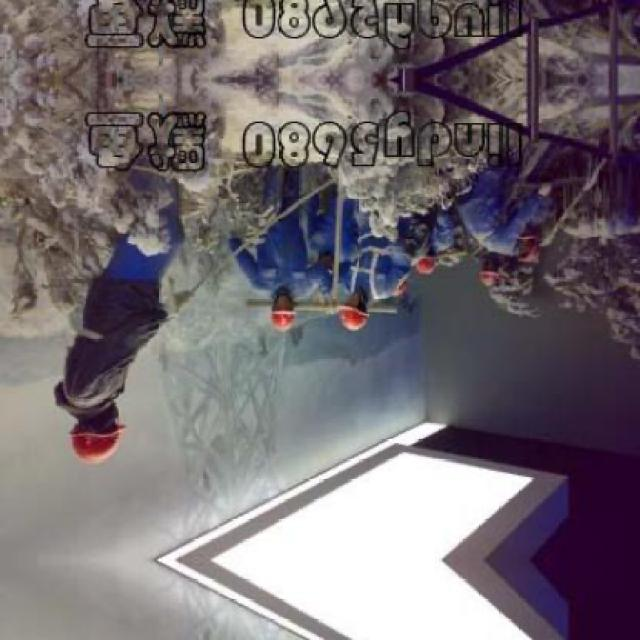con casco: (63, 400, 139, 462), (448, 232, 508, 308), (264, 277, 301, 324), (326, 304, 372, 338), (514, 252, 553, 276)
